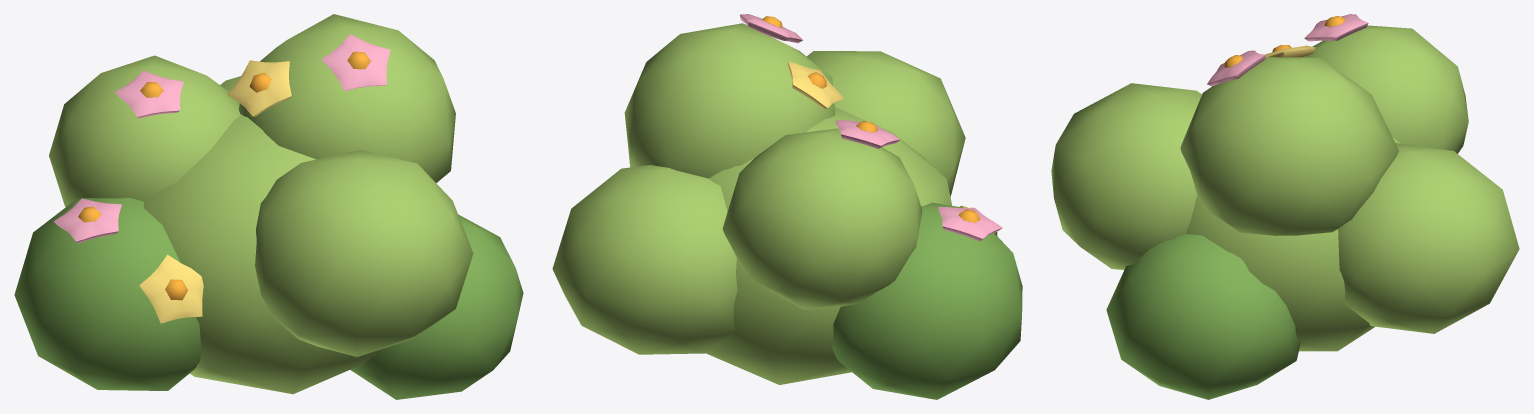
The model's file is prop_desert_shrub.glb.
3 renders of one model, left to right at view 1: azimuth 30°, elevation 25°; view 2: azimuth 150°, elevation 25°; view 3: azimuth 270°, elevation 25°, orthographic. The views are drawn at different scales.
Visible parts, largest first — view 1: prop_desert_shrub; view 2: prop_desert_shrub; view 3: prop_desert_shrub.
Boxes of the visible parts, bbox=[...] form: prop_desert_shrub: bbox=[14, 14, 523, 399]; prop_desert_shrub: bbox=[552, 14, 1022, 399]; prop_desert_shrub: bbox=[1051, 14, 1519, 399].
Bounding box in the file's own units: 0.9958 × 0.7711 × 1.02.
